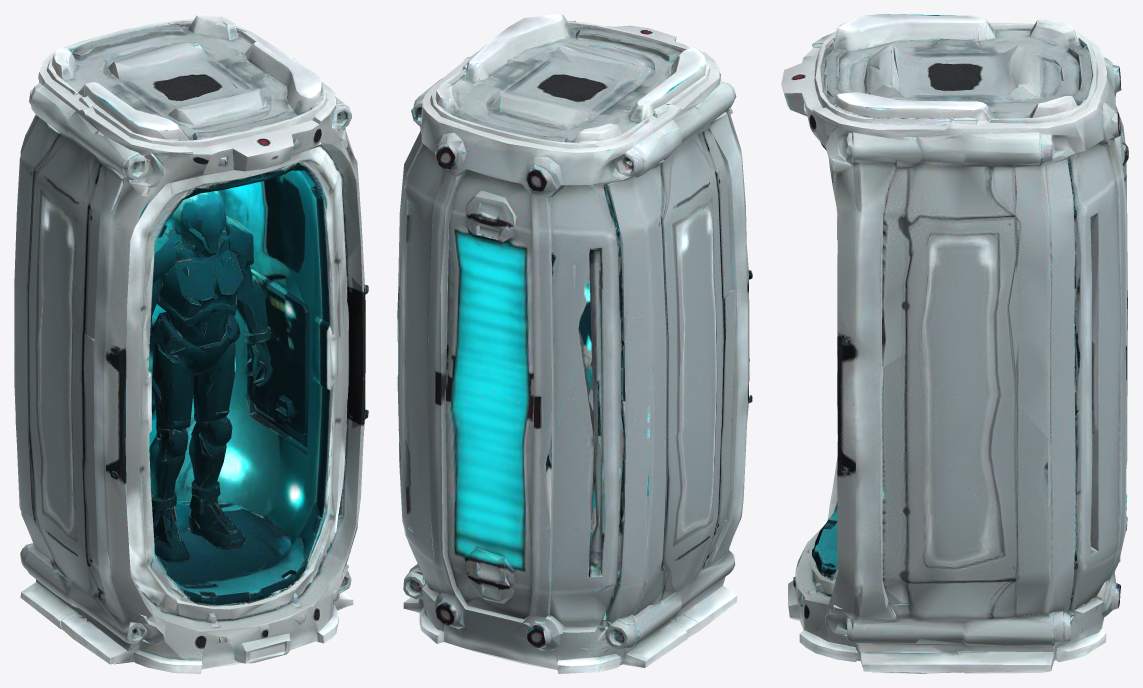
Rendered from Meshy_AI_Containment_Pod_balanced.glb.
The picture shows the model from 3 angles, left to right: view 1: azimuth 30°, elevation 25°; view 2: azimuth 150°, elevation 25°; view 3: azimuth 270°, elevation 25°; orthographic projection. The views are drawn at different scales.
Bounding box in the file's own units: 0.9763 × 1.9 × 1.08.
1 material, 1 textured.
